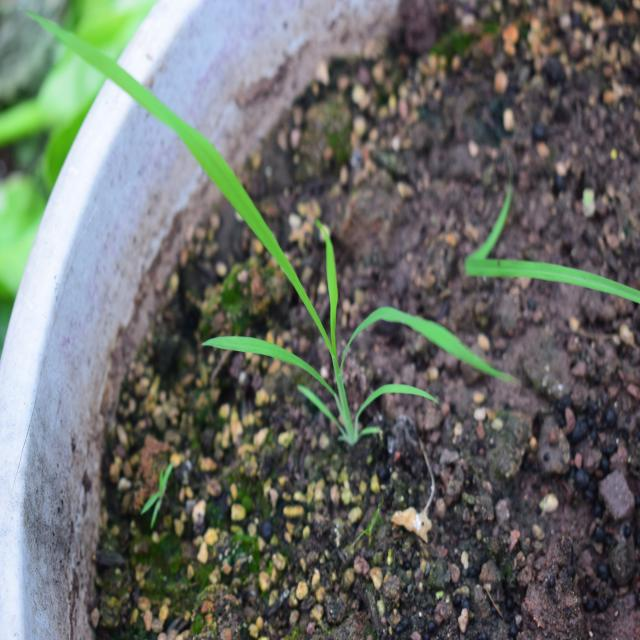barnyard_grass: (55, 12, 488, 454)
